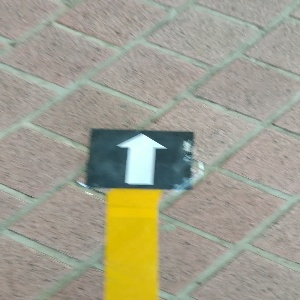straight: (87, 128, 193, 190)
